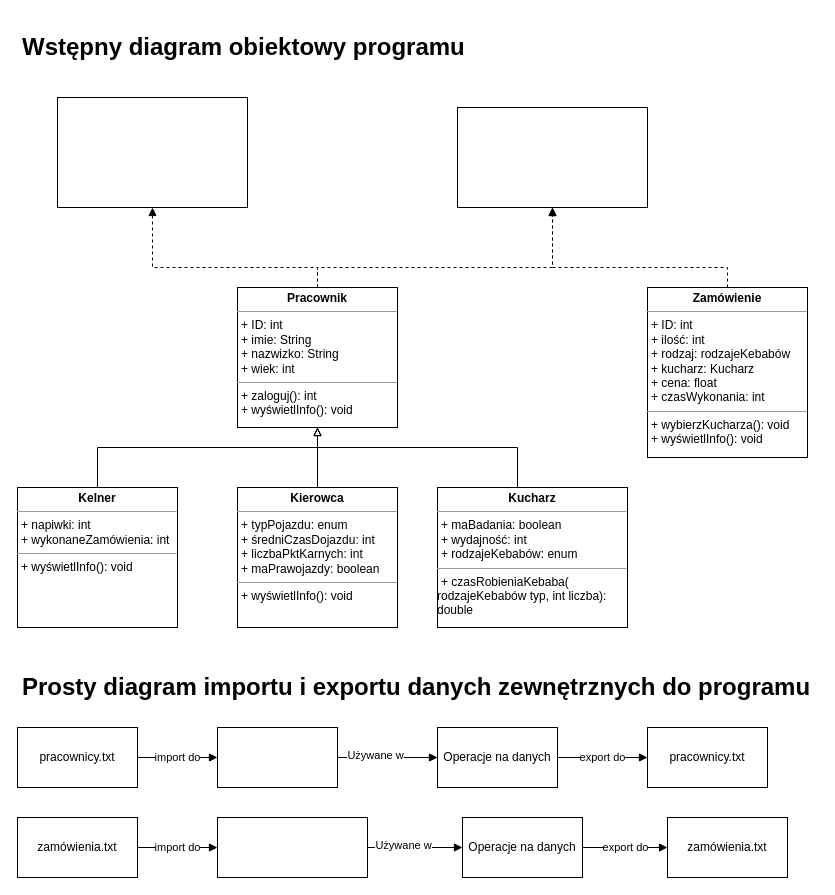
This 835x895 diagram has some shape labels left out. The centre of each missing label's shape, as x and y in pixels:
"<<Interface>> inputCheker + checkInput(): String" belongs at (x=552, y=157).
"<<Interface>> Pensja + wypłata(): int + bonus(): int" belongs at (x=152, y=152).
"List<Pracownik> pracownicy" belongs at (x=277, y=757).
"PriorityQueue<Zamwienia> zamówienia" belongs at (x=292, y=847).
